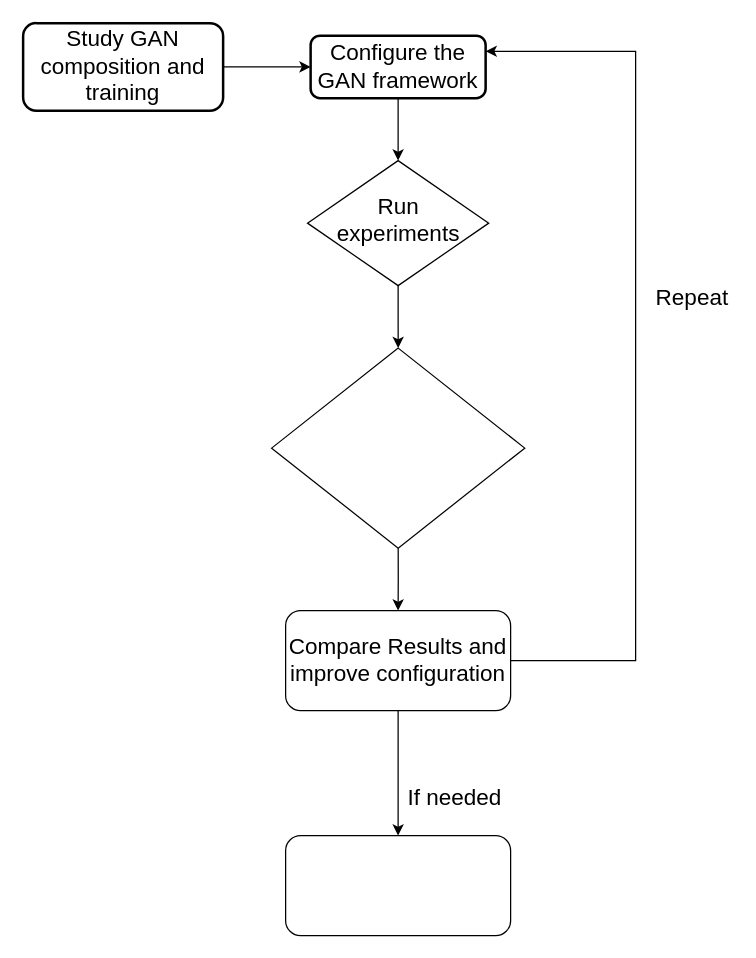
This 756x958 diagram has some shape labels left out. Each missing label, with the centre of its shape:
Output Visualization and interpretation: (x=397, y=447)
Save trained models: (x=397, y=885)
